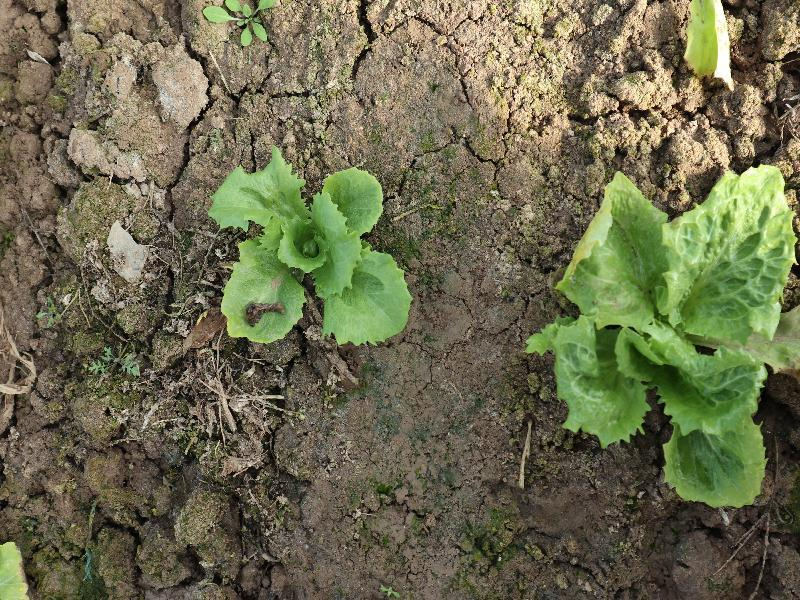lettuce: (525, 165, 793, 508), (210, 145, 411, 347)
